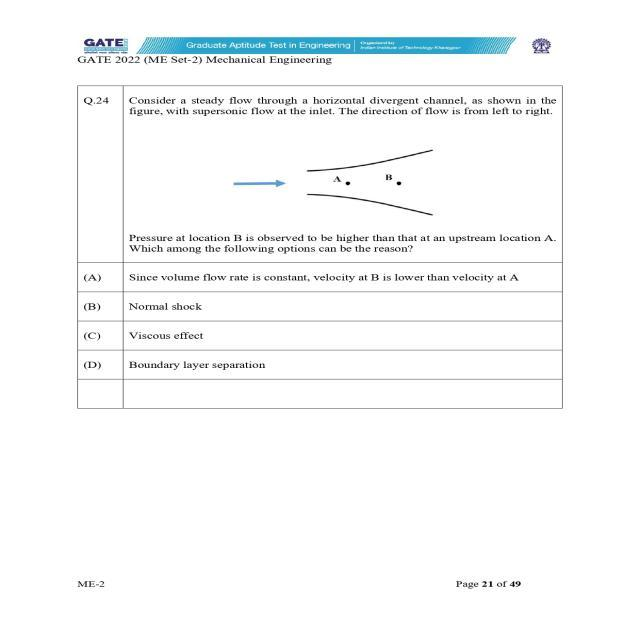Answer_Block: (75, 263, 567, 380)
Question_Answer_Block: (75, 88, 567, 410)
Question_Block: (73, 86, 568, 263)
Question_Paper_Area: (74, 53, 564, 409)
